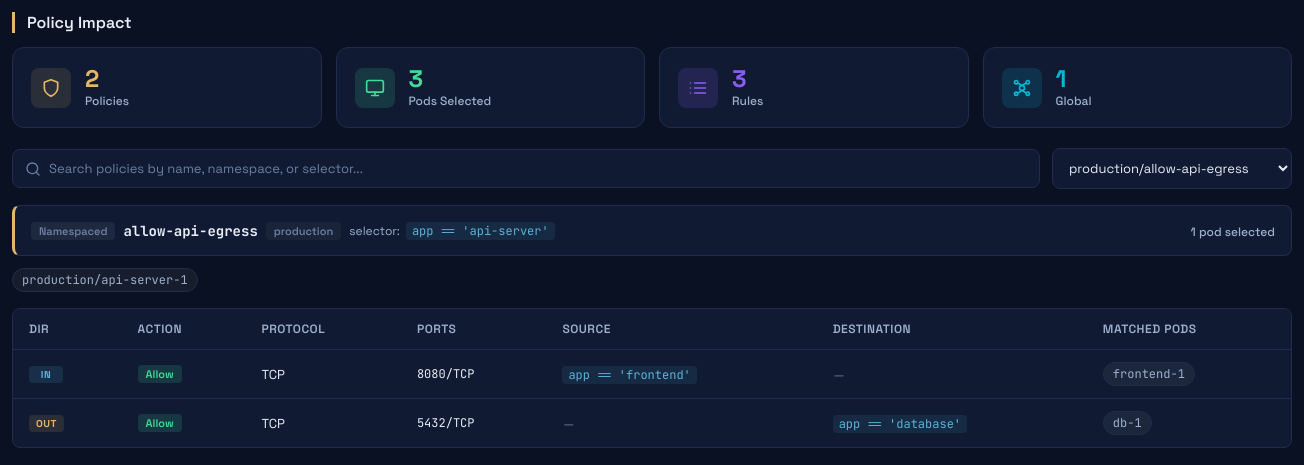
Test case: PolicyImpactPanel › allows switching policies via the select
The width and height of the screenshot is (1304, 465).
Select "default-deny" in the dropdown named "select policy": [1172, 169] box [1052,148,1292,189]
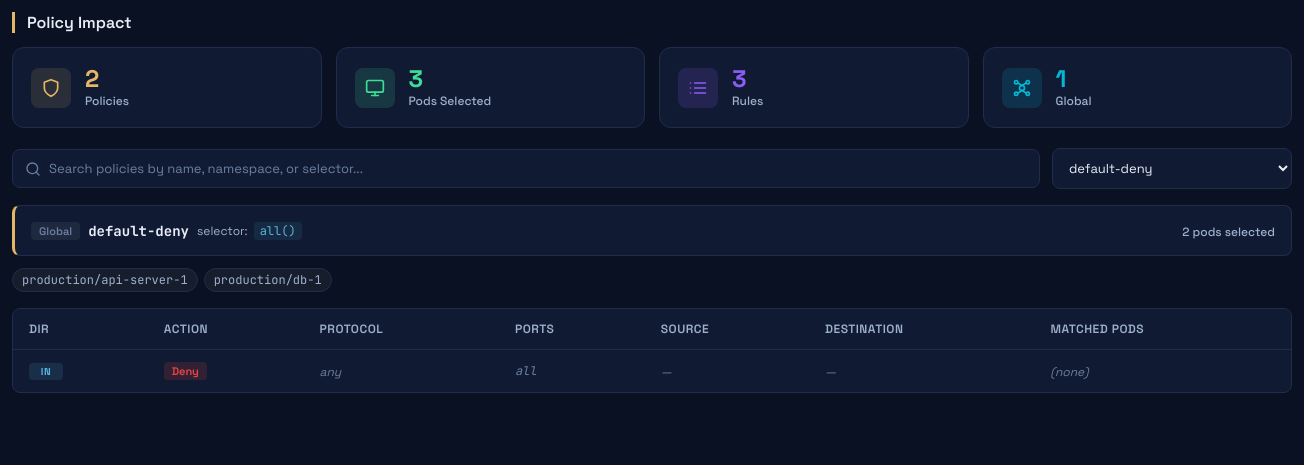
Result: the text "2 pods selected" is shown at [1182,224,1275,240]
